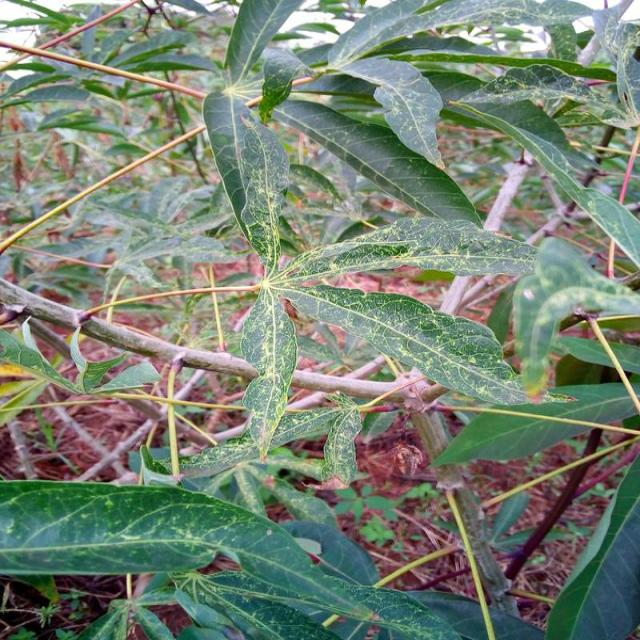cassava leaf: (1, 478, 542, 638), (278, 280, 530, 408), (202, 87, 290, 268)
